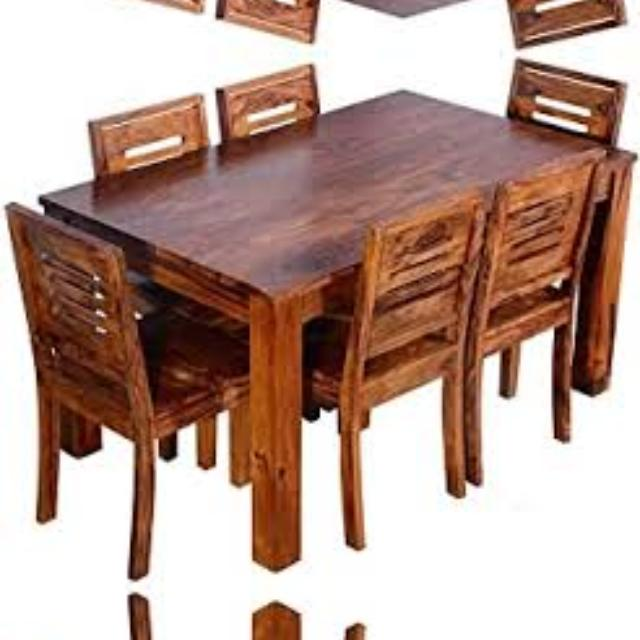obstacle: (71, 84, 638, 336), (1, 153, 222, 521), (313, 200, 483, 522), (498, 137, 600, 486), (71, 0, 638, 22)
